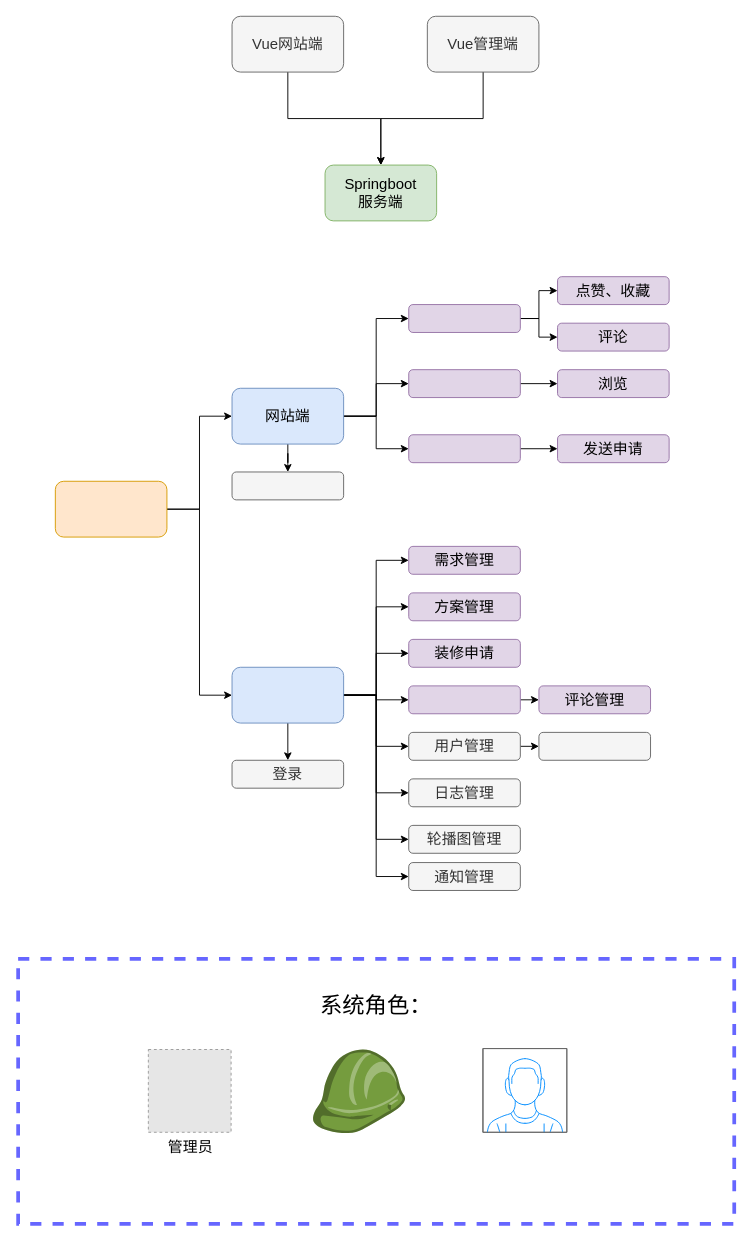
The diagram is 751 pixels wide and 1242 high, and some of its shapes have lost their labels. Grey dashed boxes stand in for pictures. The shapes that lost their labels are listed below. From the top down, each one's centre as x and y in pixels, then its label:
At pixel 464 318: "装修资讯".
At pixel 464 383: "方案展示".
At pixel 464 448: "设计需求".
At pixel 287 485: "登录与注册".
At pixel 110 508: "装修设计帮帮网".
At pixel 287 694: "管理端".
At pixel 464 699: "资讯管理".
At pixel 594 745: "权限管理".
At pixel 358 1091: "装修设计师".
At pixel 524 1090: "消费者".
